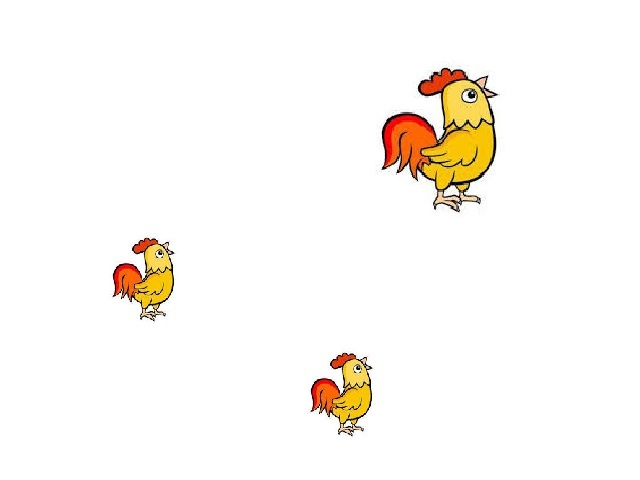crown: (416, 66, 470, 92), (131, 238, 157, 252), (328, 353, 354, 366)
eyes: (463, 86, 486, 106), (156, 249, 165, 259), (353, 367, 361, 373)
feet: (427, 189, 486, 213), (141, 306, 171, 323), (335, 420, 365, 437)
tail: (379, 111, 439, 177), (110, 263, 138, 301), (312, 381, 340, 415)
